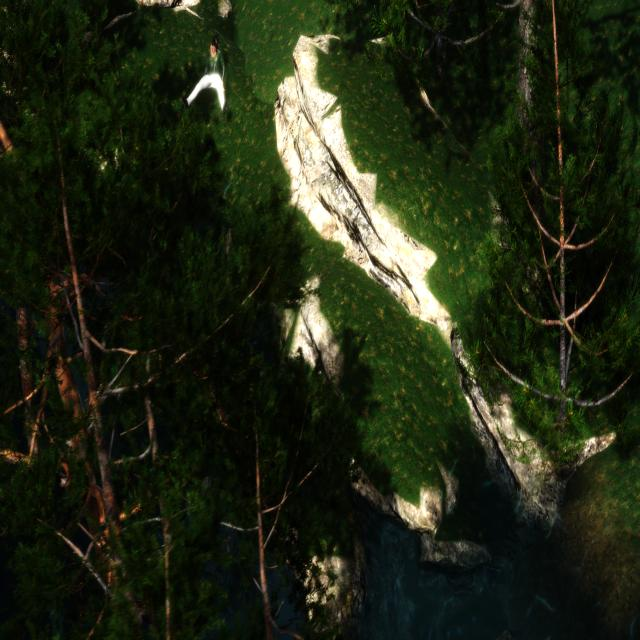Human: (181, 31, 229, 120)
